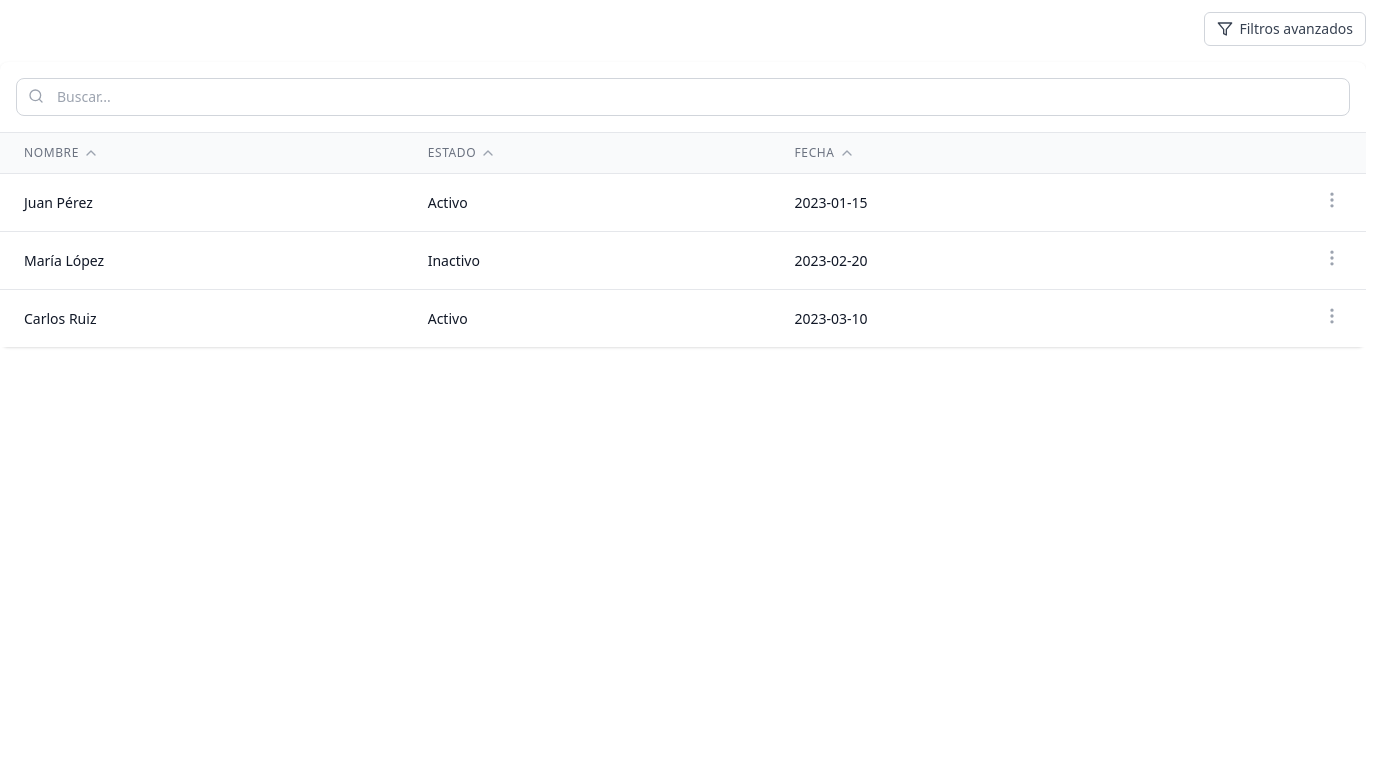
Test: FilterableTable Component › shows filter controls when filter button is clicked
This screenshot has width=1378, height=780.
Hacer clic en el botón de filtros
Click the button "Filtros avanzados". click: (1285, 29)
box: [1204,12,1366,46]
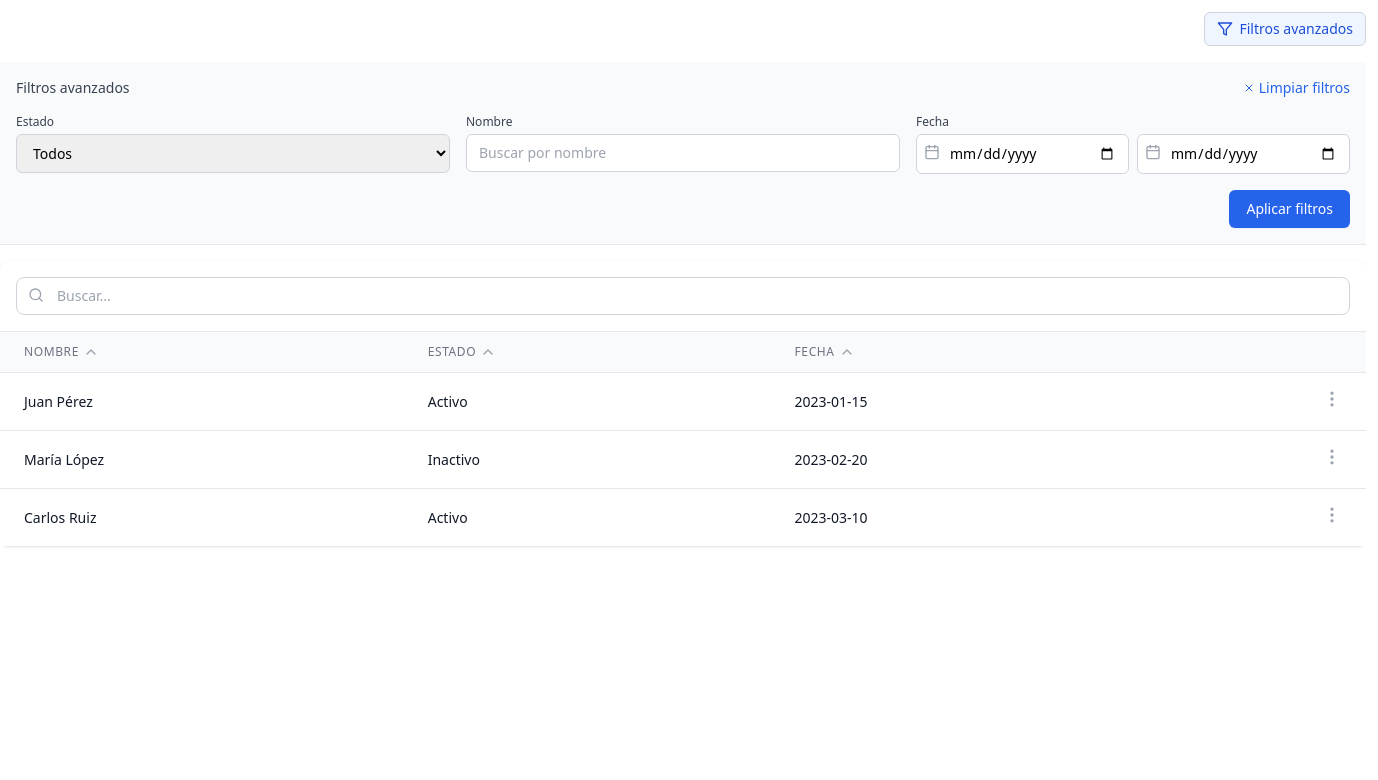
Now the dropdown labelled "Estado" is shown, box [16,134,450,173]
Now the field labelled "Nombre" is shown, box [466,134,900,172]
Now the button "Aplicar filtros" is shown, box [1229,190,1350,228]
